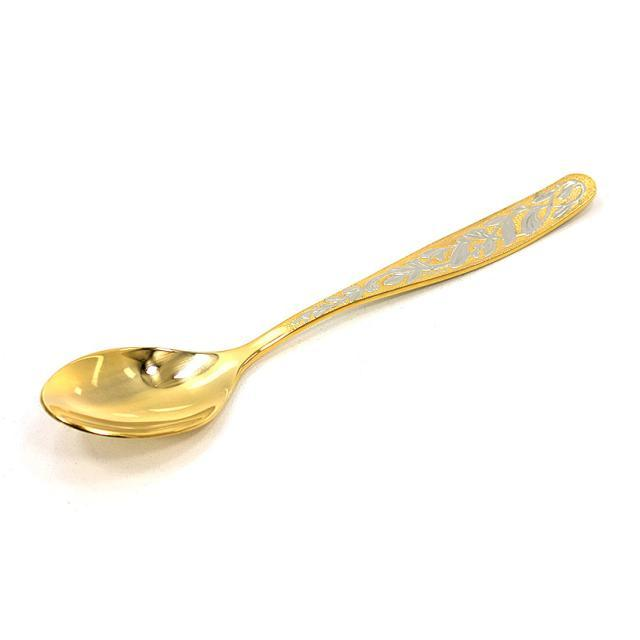plastic utensil: (41, 175, 596, 438)
